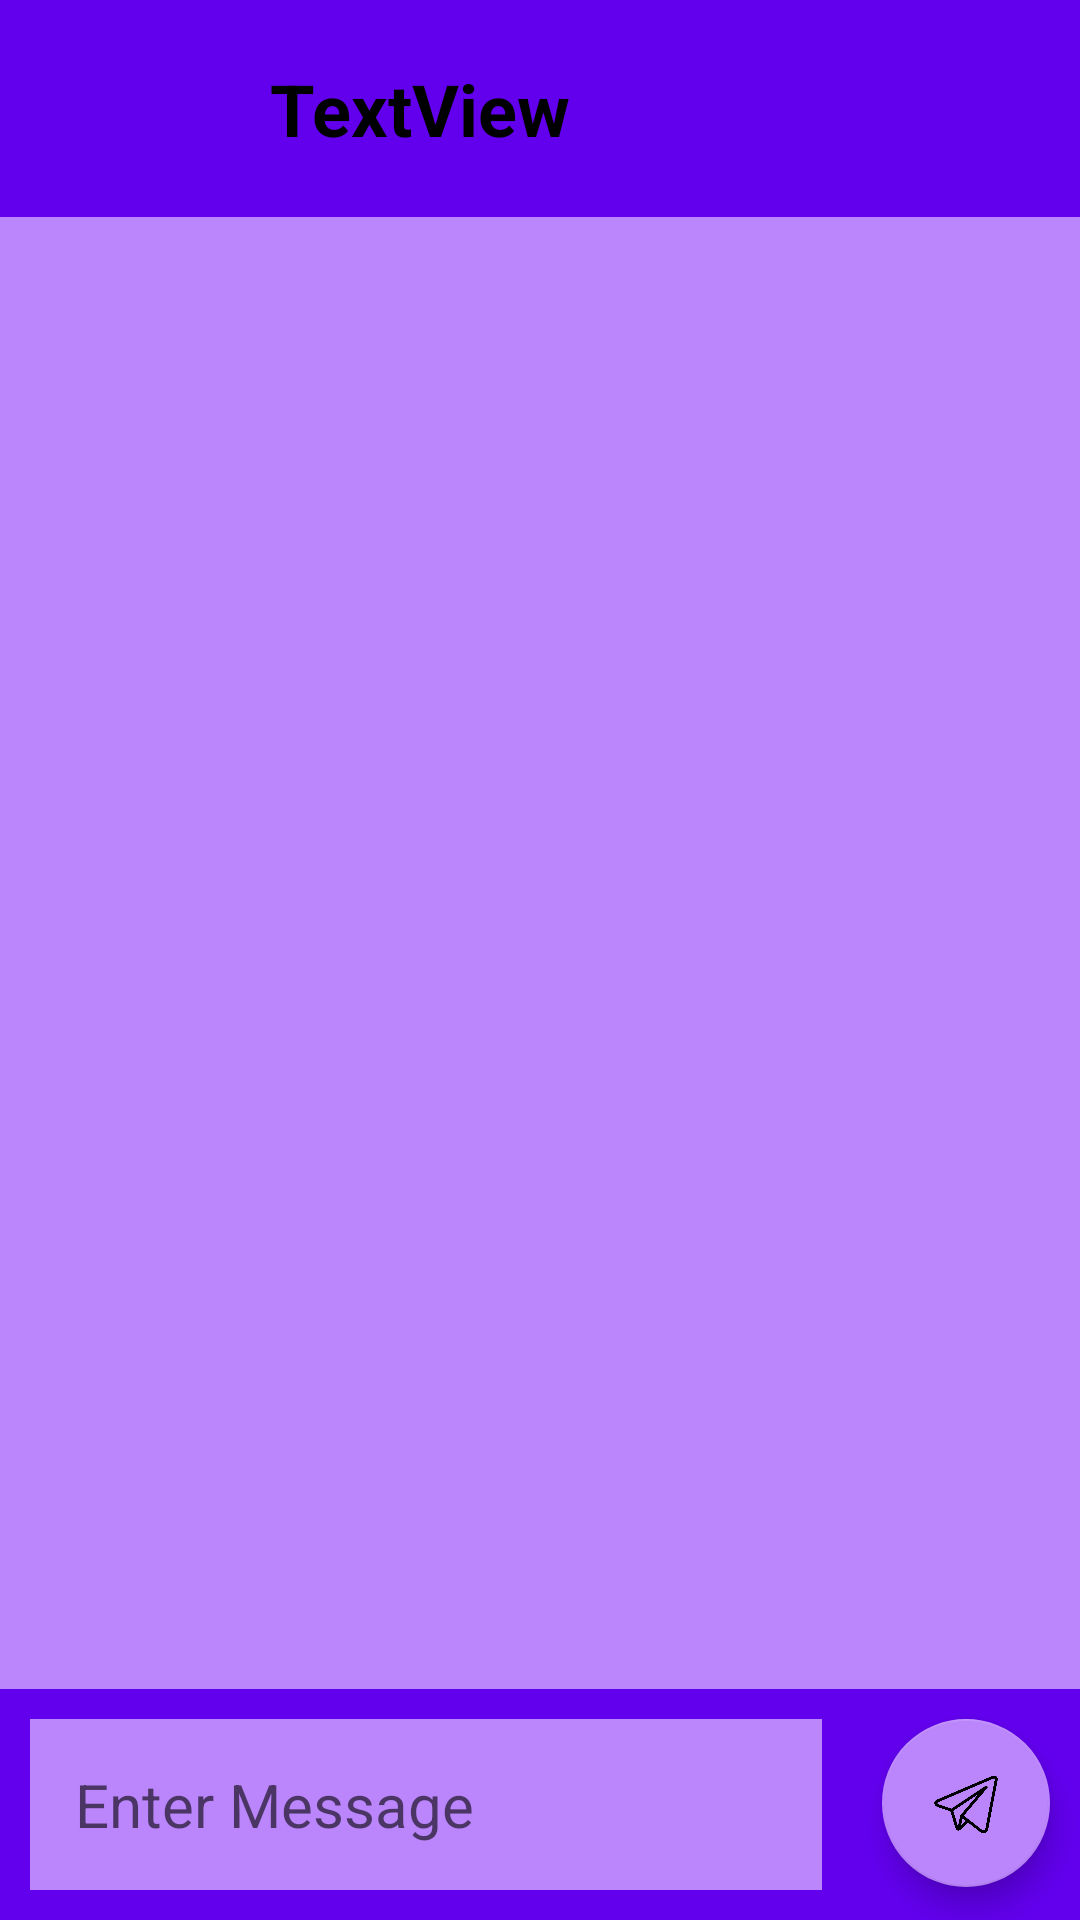

Screen size 1080px x 1920px. Icon name, then its center in pixels as point (x, y):
send: point (966, 1803)
